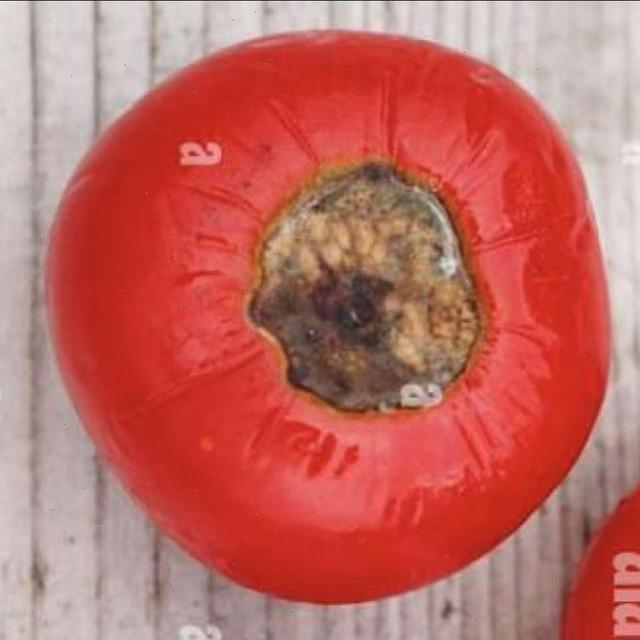Blossom End Rot Fruit: (164, 105, 325, 278)
